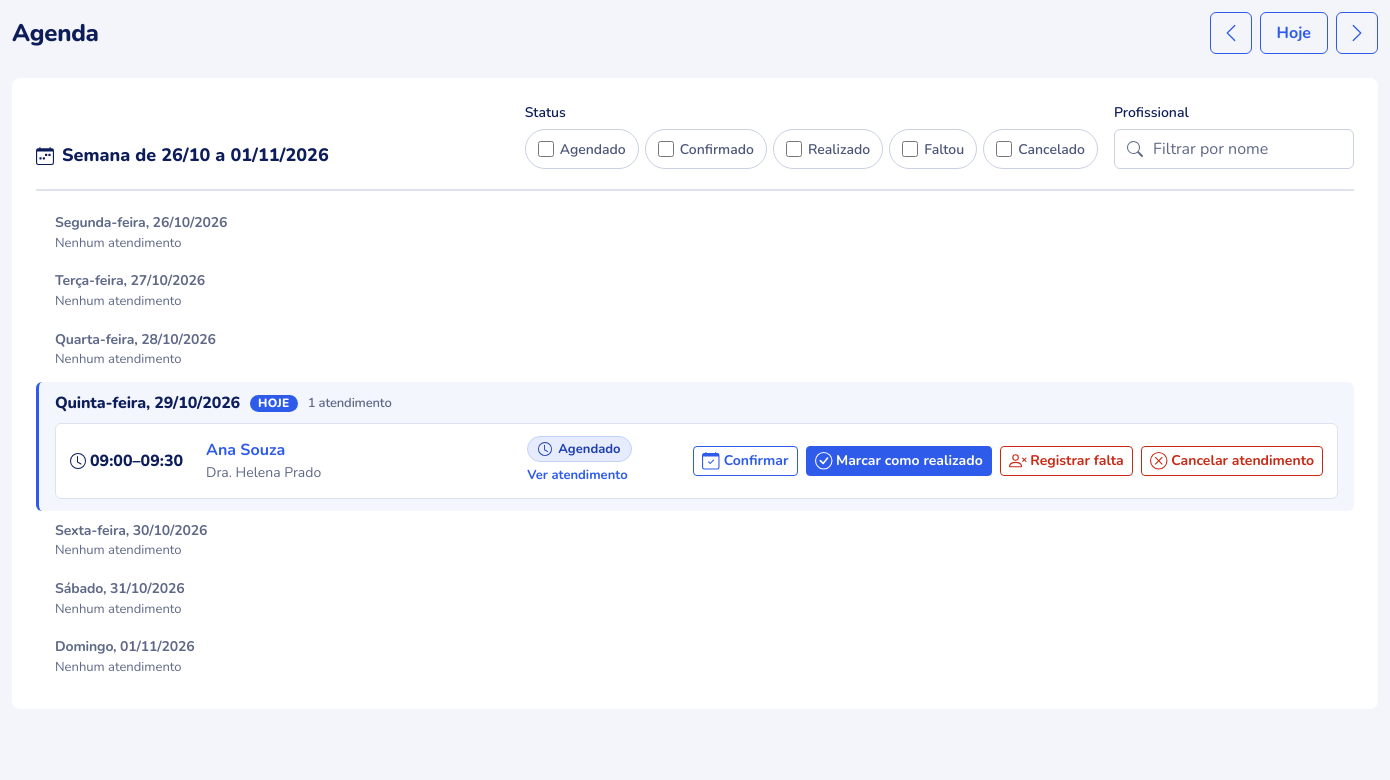
Test case: AgendaView › quick status action updates the item in place
This screenshot has width=1390, height=780.
Step 1. Click the button "Confirmar" → {"x": 745, "y": 461}, box [693,446,798,476]
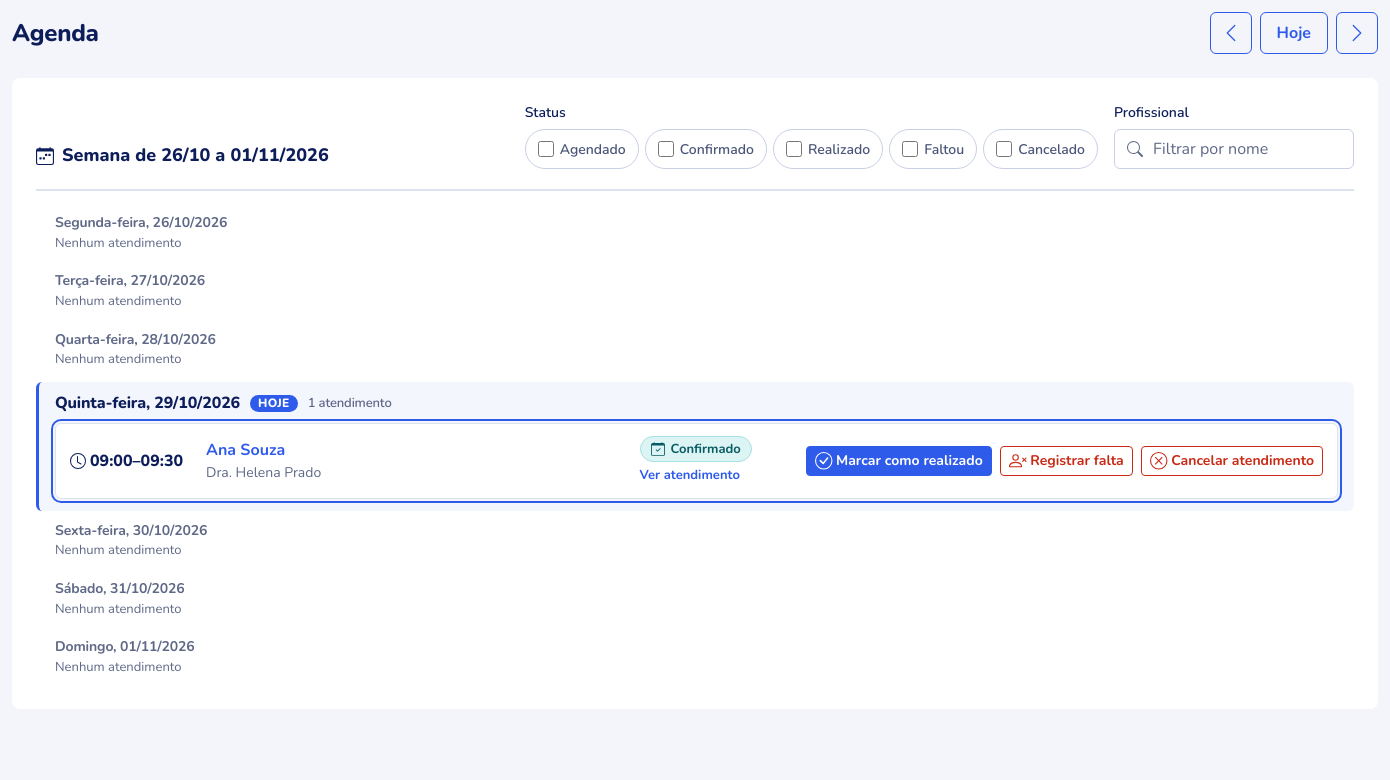
Expected: the list item with class "agenda-item" shows "Confirmado", [670,440,741,458]
